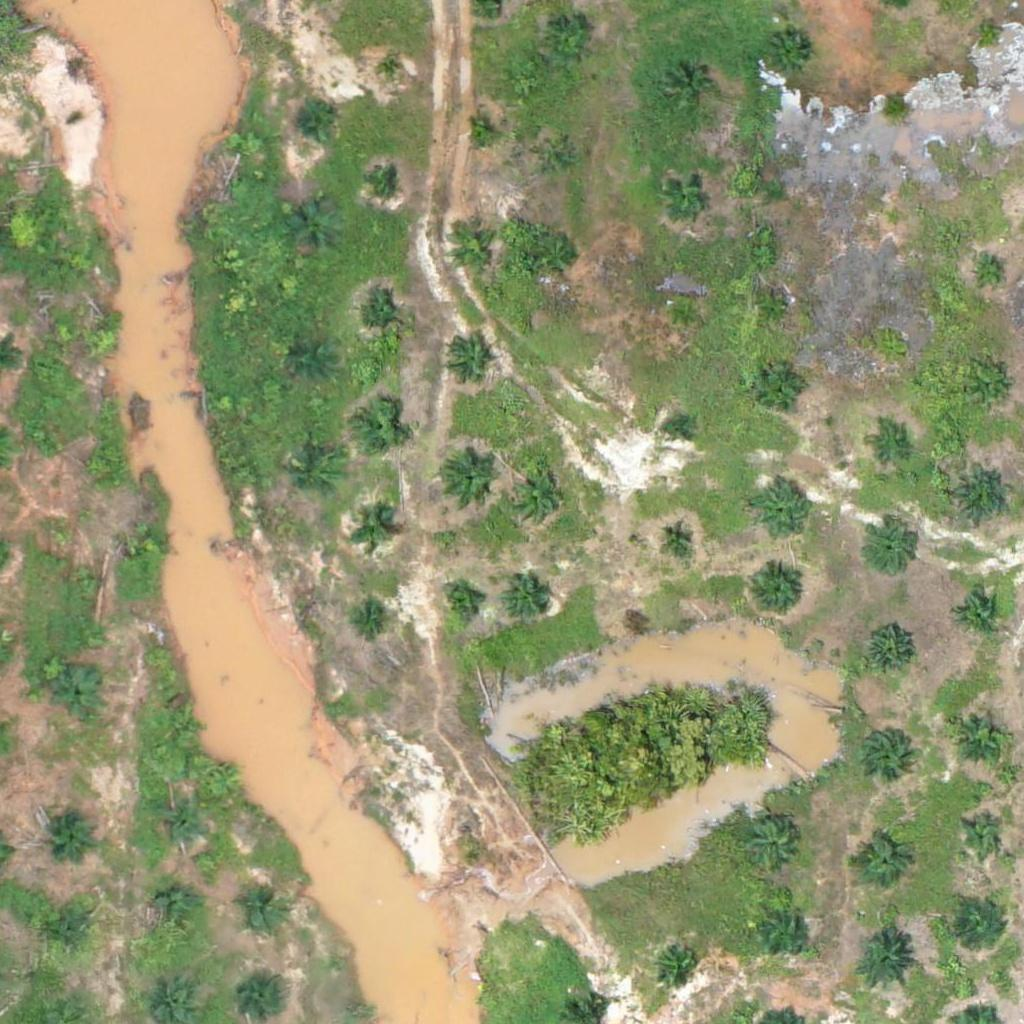Kelapa_Sawit: (854, 932, 917, 995), (951, 464, 1014, 527), (505, 465, 568, 528), (745, 561, 807, 624), (949, 703, 1011, 766), (749, 479, 811, 542), (439, 447, 501, 510), (535, 230, 585, 281), (956, 900, 1006, 951), (854, 837, 904, 888), (865, 523, 915, 574), (748, 822, 798, 873), (759, 905, 809, 956), (862, 624, 912, 675), (953, 588, 1003, 639), (755, 360, 805, 411), (448, 224, 498, 275), (48, 806, 98, 856), (155, 801, 205, 851), (54, 670, 104, 720), (151, 886, 201, 936), (237, 885, 287, 935), (859, 727, 909, 777), (653, 939, 703, 989), (45, 910, 95, 960), (356, 295, 406, 345), (354, 404, 404, 454), (443, 337, 493, 387), (503, 573, 553, 623), (766, 31, 816, 81), (663, 170, 713, 220), (663, 63, 713, 113), (543, 19, 593, 69), (290, 203, 340, 253), (292, 454, 342, 504), (868, 429, 906, 467), (163, 708, 201, 746), (353, 509, 391, 547), (354, 600, 392, 638), (441, 583, 479, 621), (67, 560, 105, 598), (77, 447, 115, 485), (83, 322, 121, 360), (294, 104, 332, 142), (973, 372, 1010, 410), (962, 816, 999, 854), (660, 520, 697, 558), (131, 522, 168, 560), (664, 296, 702, 333), (538, 141, 576, 178), (294, 342, 331, 380), (757, 290, 794, 328), (976, 262, 1001, 287), (976, 18, 1001, 43), (666, 417, 691, 442), (467, 120, 492, 145), (379, 59, 404, 84), (373, 171, 398, 196), (882, 207, 907, 232)
